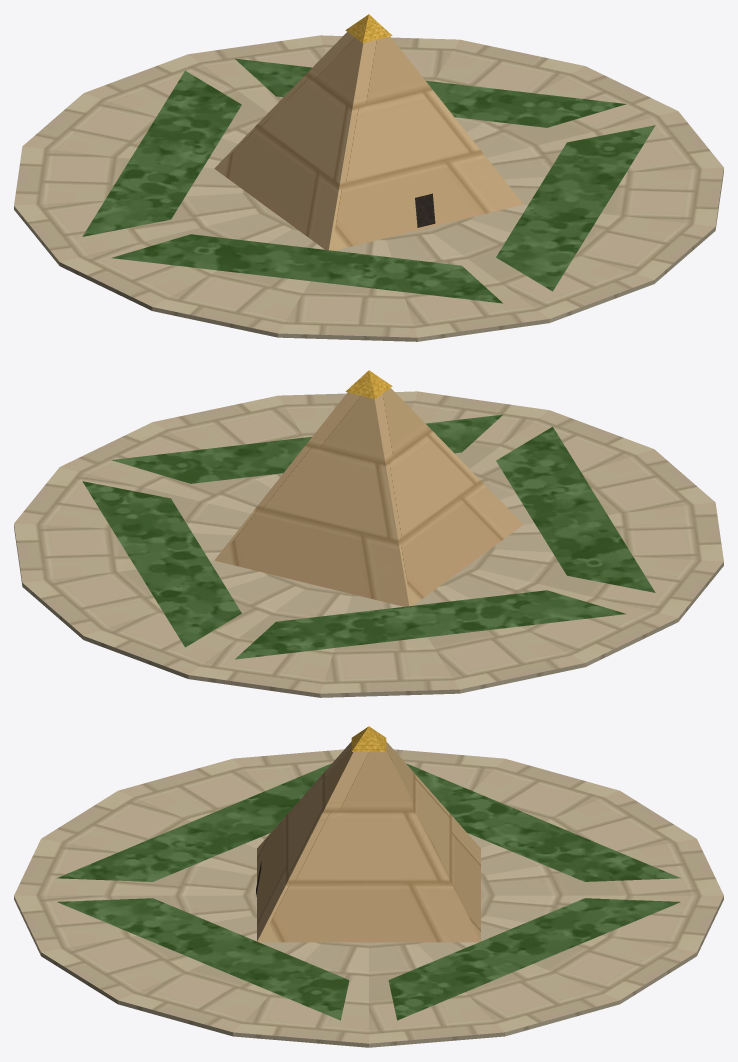
The model's file is pyramid_small_lod2.glb.
3 renders of one model, top to bottom at view 1: azimuth 30°, elevation 25°; view 2: azimuth 150°, elevation 25°; view 3: azimuth 270°, elevation 25°, orthographic.
Parts seen in each view (by area): view 1: pyramid_small_lod2; view 2: pyramid_small_lod2; view 3: pyramid_small_lod2.
Boxes of the visible parts, left/top/right/bottom form: pyramid_small_lod2: left=14, top=14, right=723, bottom=341; pyramid_small_lod2: left=14, top=370, right=723, bottom=697; pyramid_small_lod2: left=14, top=726, right=723, bottom=1047.
Size of the model in its own units: 1.88 by 0.512 by 1.9.
1 material, 1 textured.
